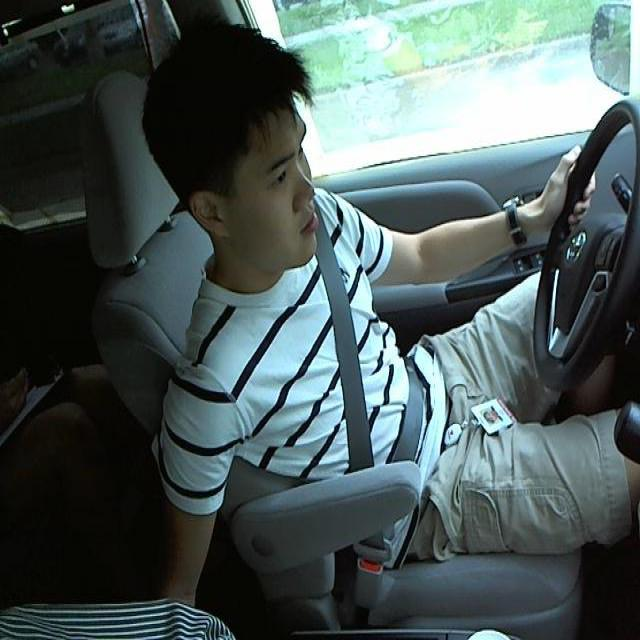seatbelt: (311, 243, 429, 472)
